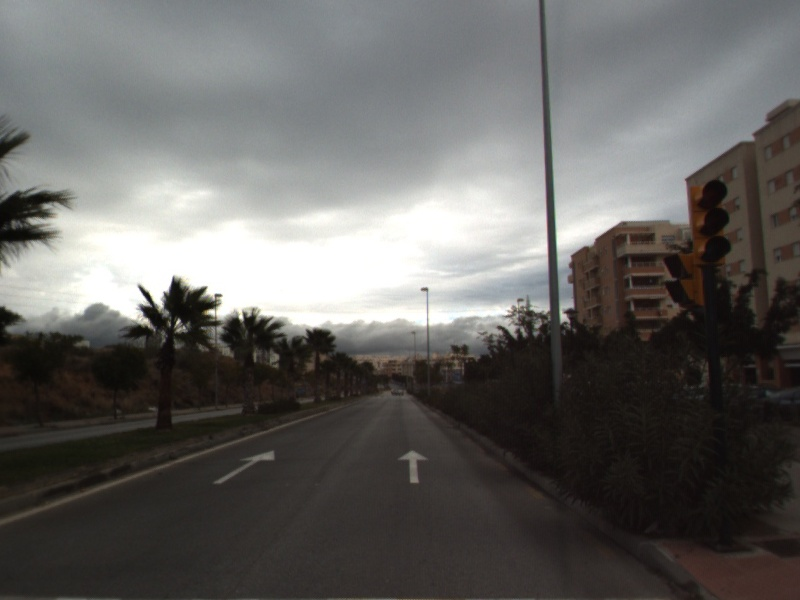STRAIGHT: (211, 448, 277, 486), (396, 448, 431, 485)
